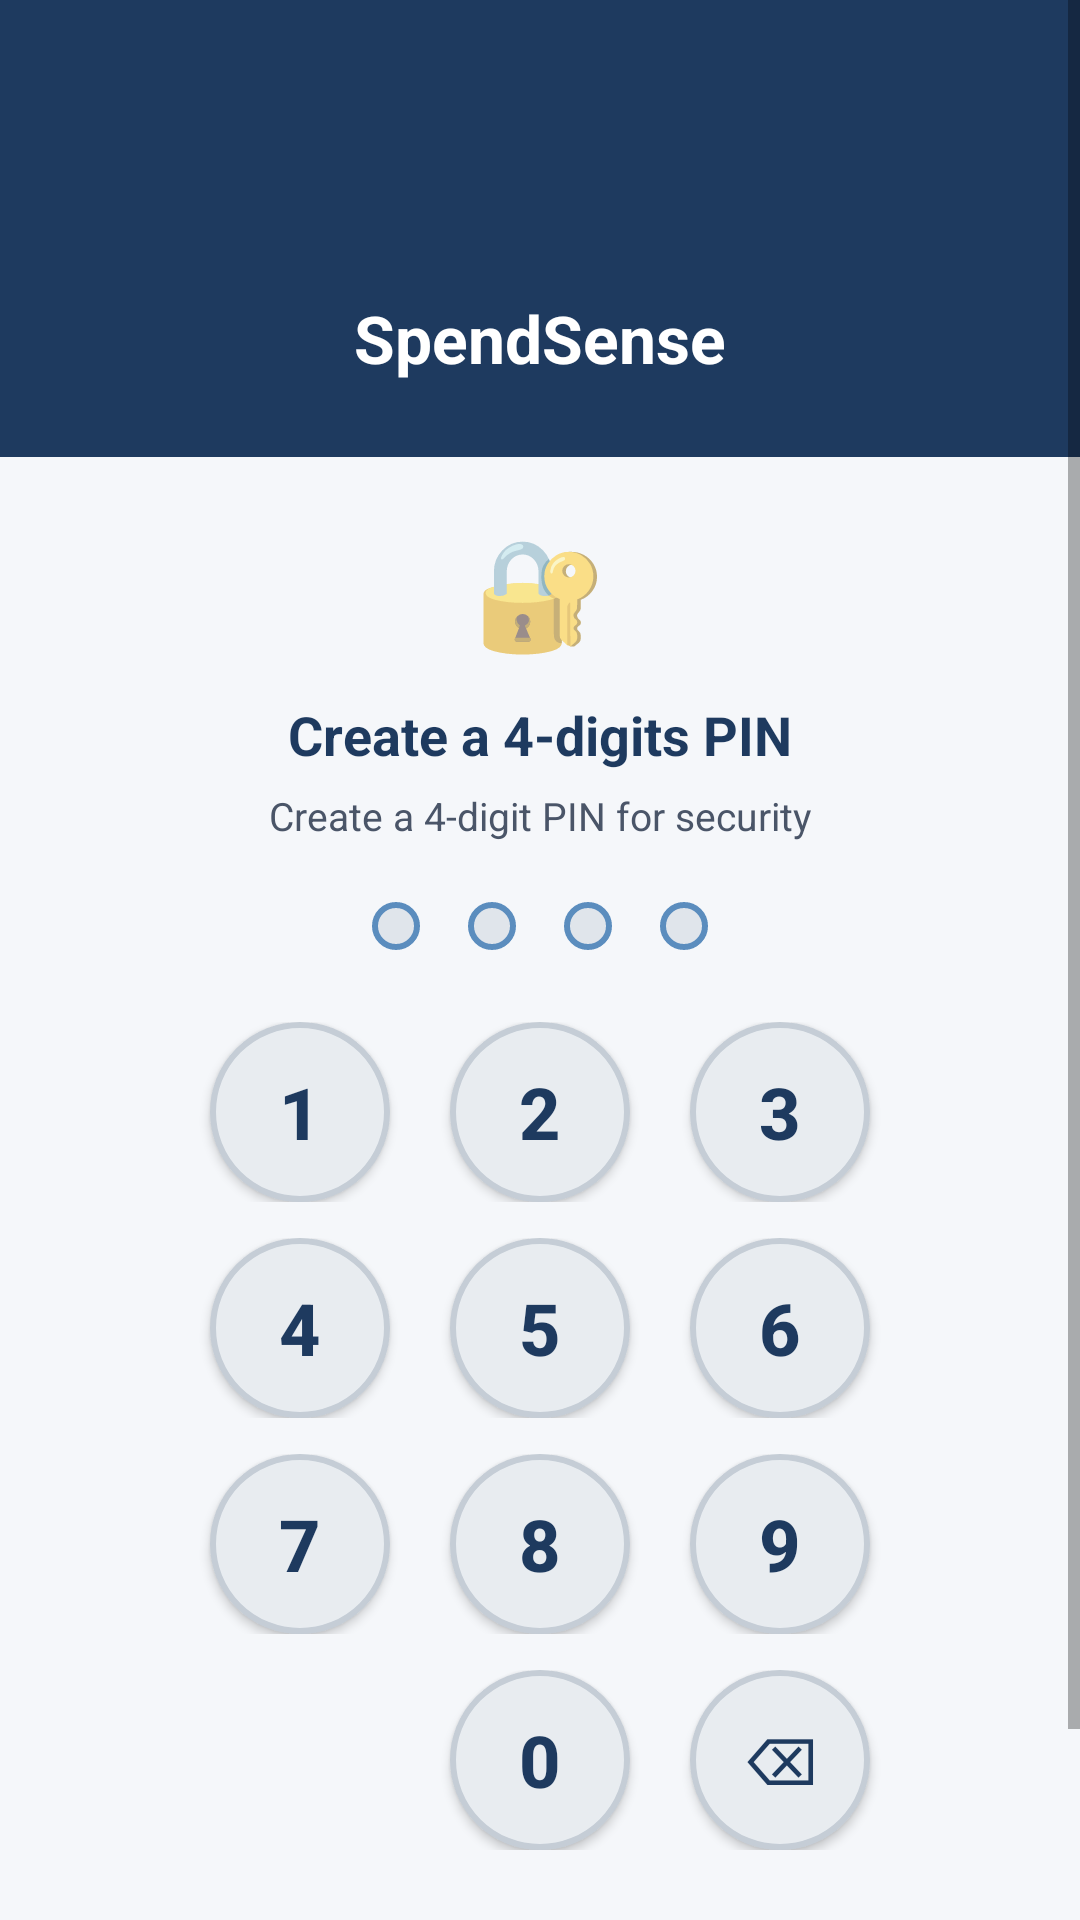

Named icons in this screenshot (1080*1920) and their bounding boxes, (left=x1, top=y1, right=x2, bottom=y2):
pin dot empty: (left=372, top=902, right=420, bottom=950), (left=468, top=902, right=516, bottom=950), (left=564, top=902, right=612, bottom=950), (left=660, top=902, right=708, bottom=950)
